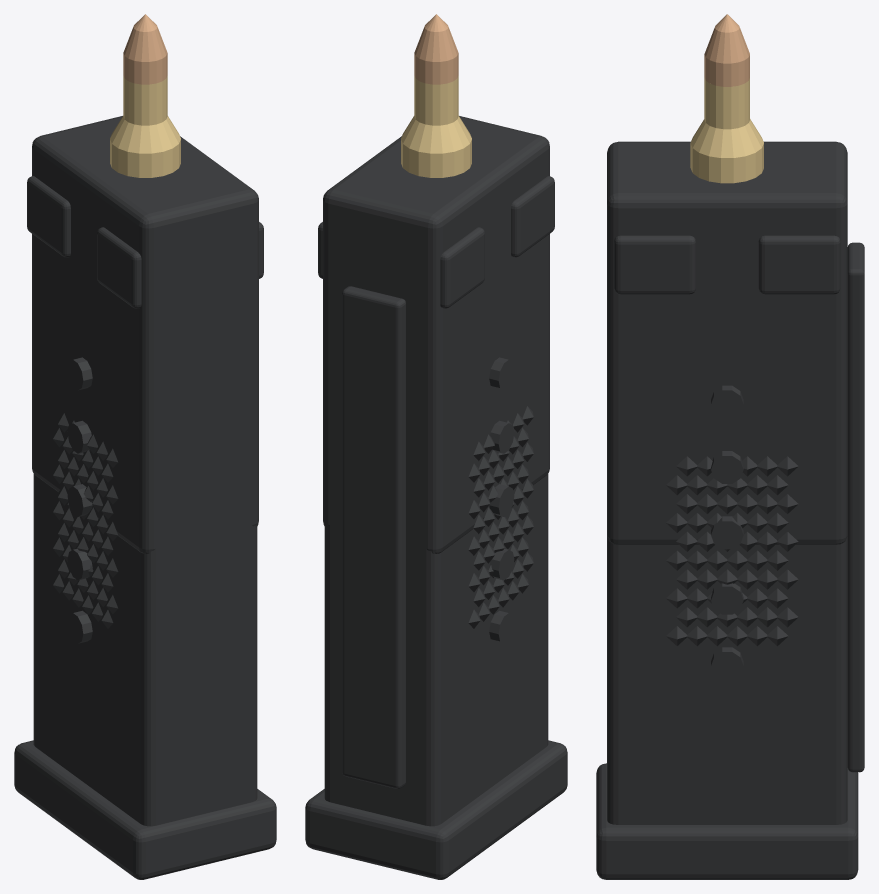
File: mod-service-pistol-magazine-33390.glb
The picture shows the model from 3 angles, left to right: view 1: azimuth 30°, elevation 25°; view 2: azimuth 150°, elevation 25°; view 3: azimuth 270°, elevation 25°; orthographic projection. The views are drawn at different scales.
Bounding box in the file's own units: 1.23 × 6.81 × 1.94.
